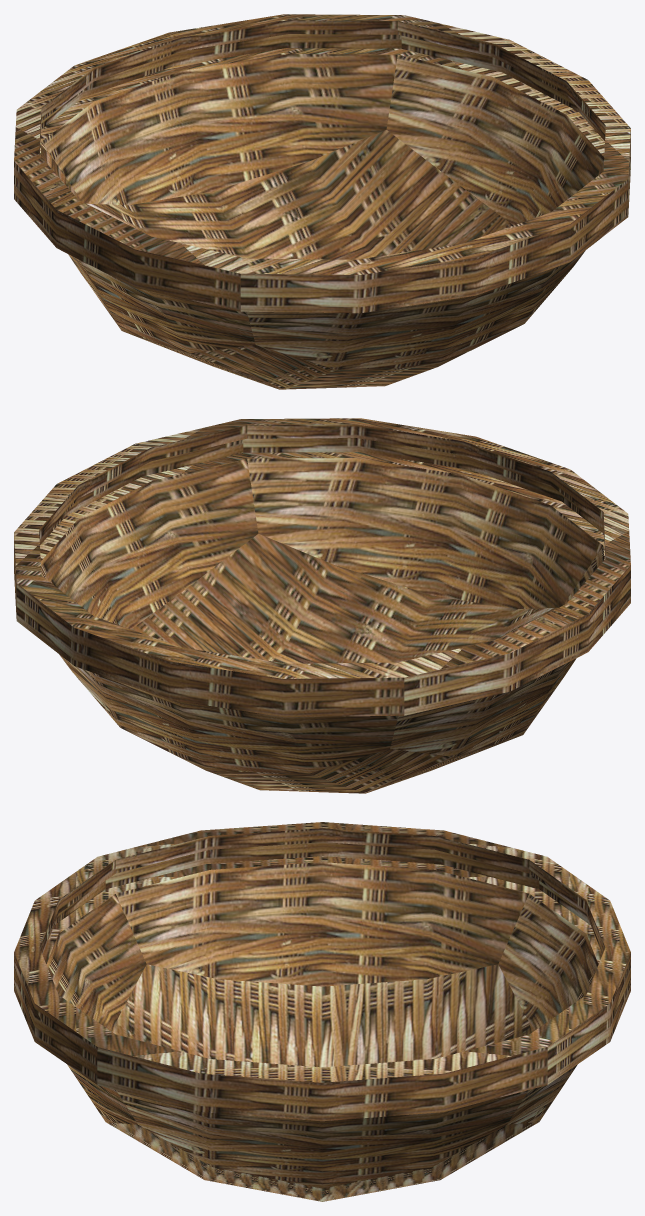
File: FruitBasket.FBX
The picture shows the model from 3 angles, top to bottom: view 1: azimuth 30°, elevation 25°; view 2: azimuth 150°, elevation 25°; view 3: azimuth 270°, elevation 25°; orthographic projection.
Visible parts, largest first — view 1: FruitBasket; view 2: FruitBasket; view 3: FruitBasket.
Part boxes in pixels (<box>): FruitBasket: <box>14,14,630,389</box>; FruitBasket: <box>14,418,630,793</box>; FruitBasket: <box>14,822,630,1201</box>.
Size of the model in its own units: 16.12 by 6.37 by 16.12.
